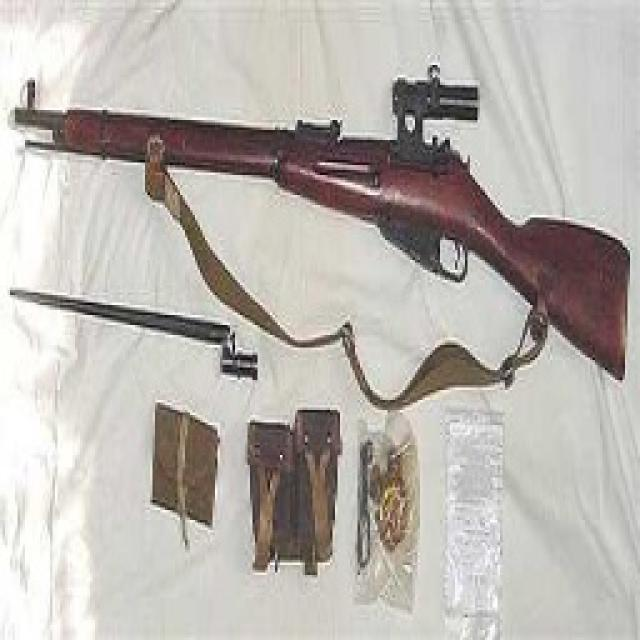long weapon: (13, 47, 627, 309)
